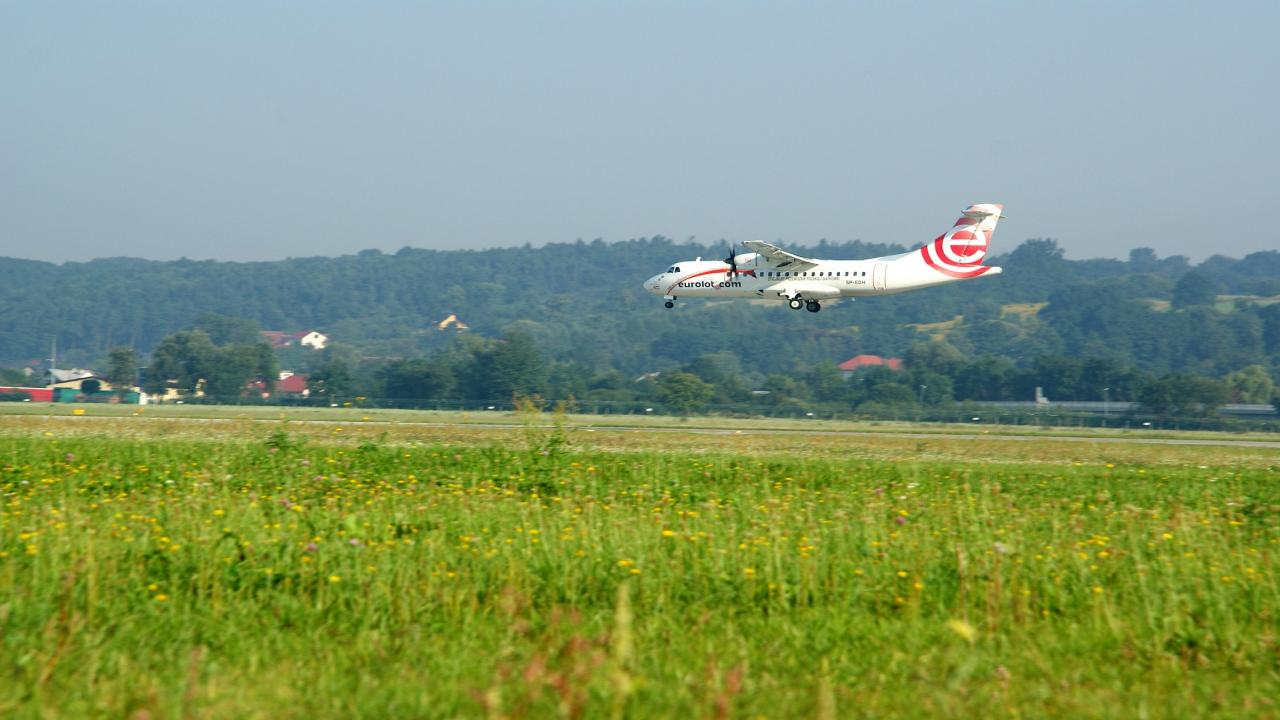Airplane: (632, 197, 1022, 320)
